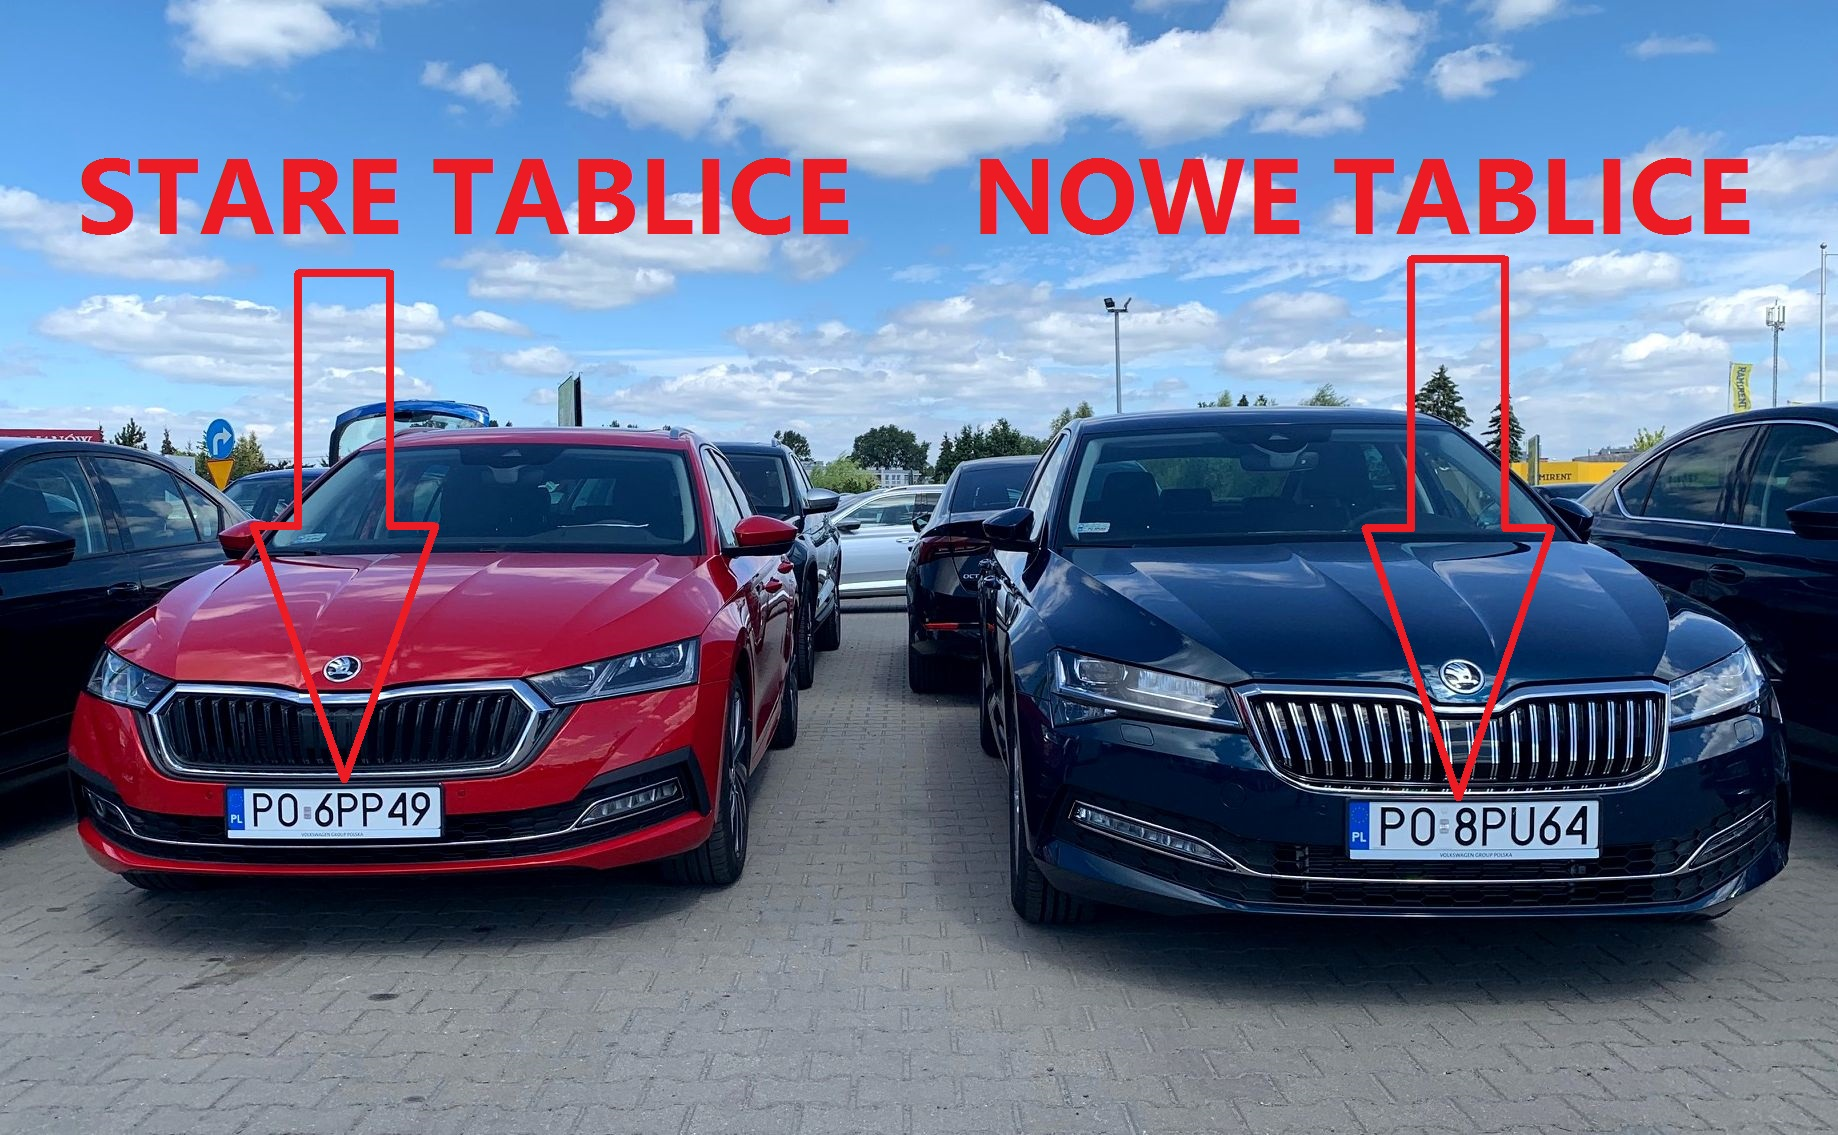number_plate: (1347, 800, 1602, 859), (227, 789, 443, 836)
